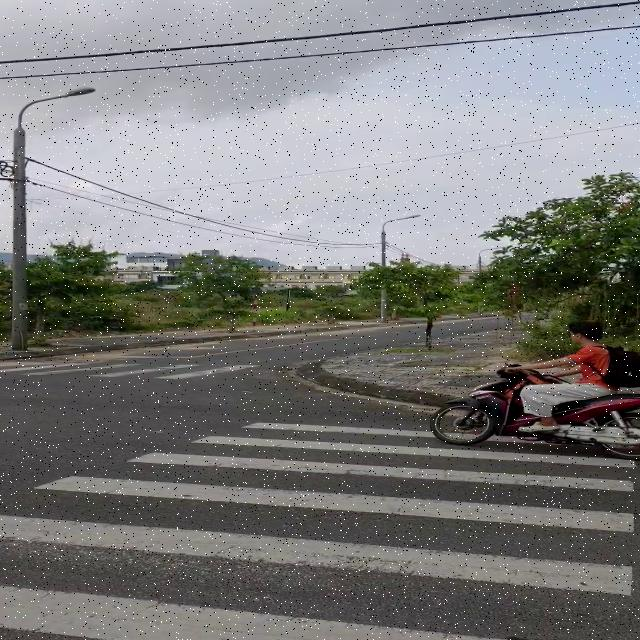no_helmet: (563, 318, 610, 348)
